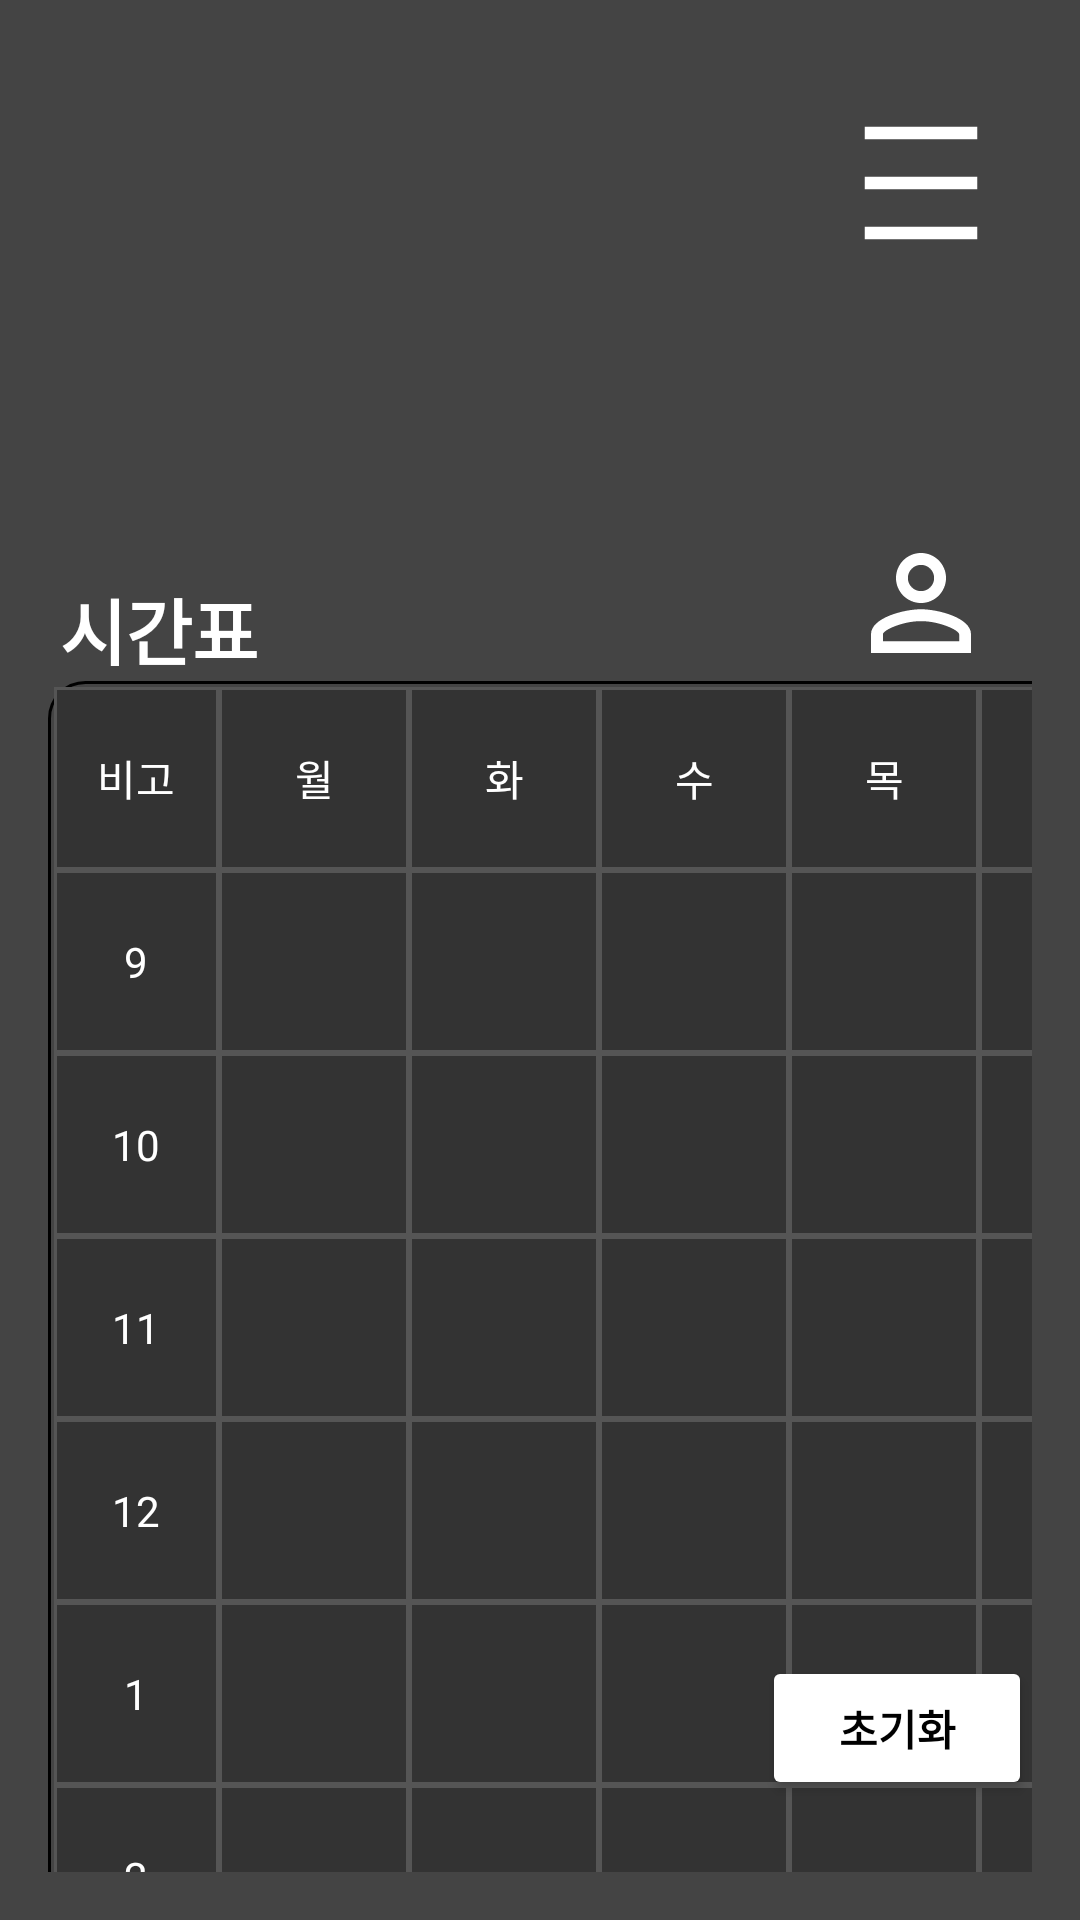

Locate icon controls on the screen. Image size 1080w x 1920h, boxes as BBox(x1, y1, x2, y2).
메뉴: BBox(864, 126, 978, 240)
